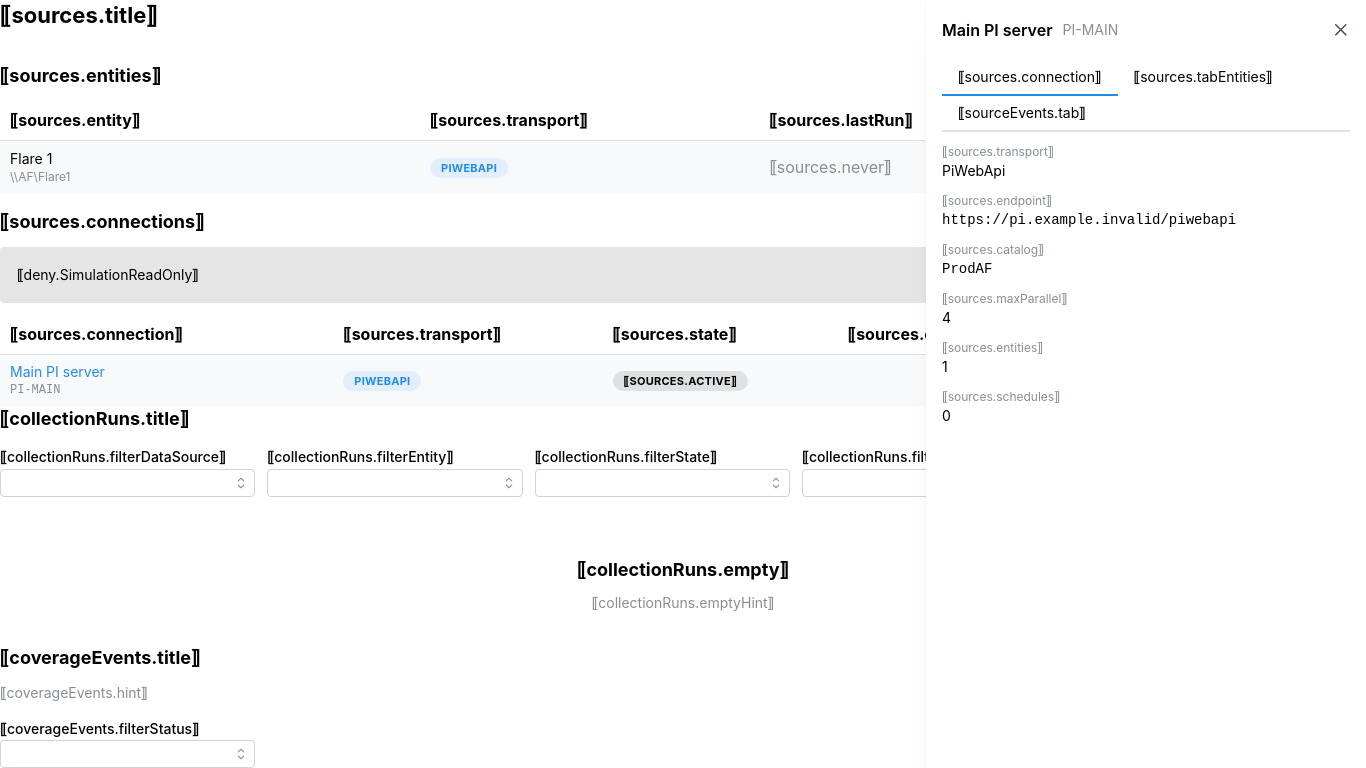
Test: SourcesPage під симуляцією (L9-18) › перегляд лишається, керування сховане, прив'язка вимкнена, є банер
Expected: the tab "⟦sourceEvents.tab⟧" is shown, [942,96,1102,132]
Click the tab "⟦sources.tabEntities⟧": (1203,78) [1118,60,1289,96]
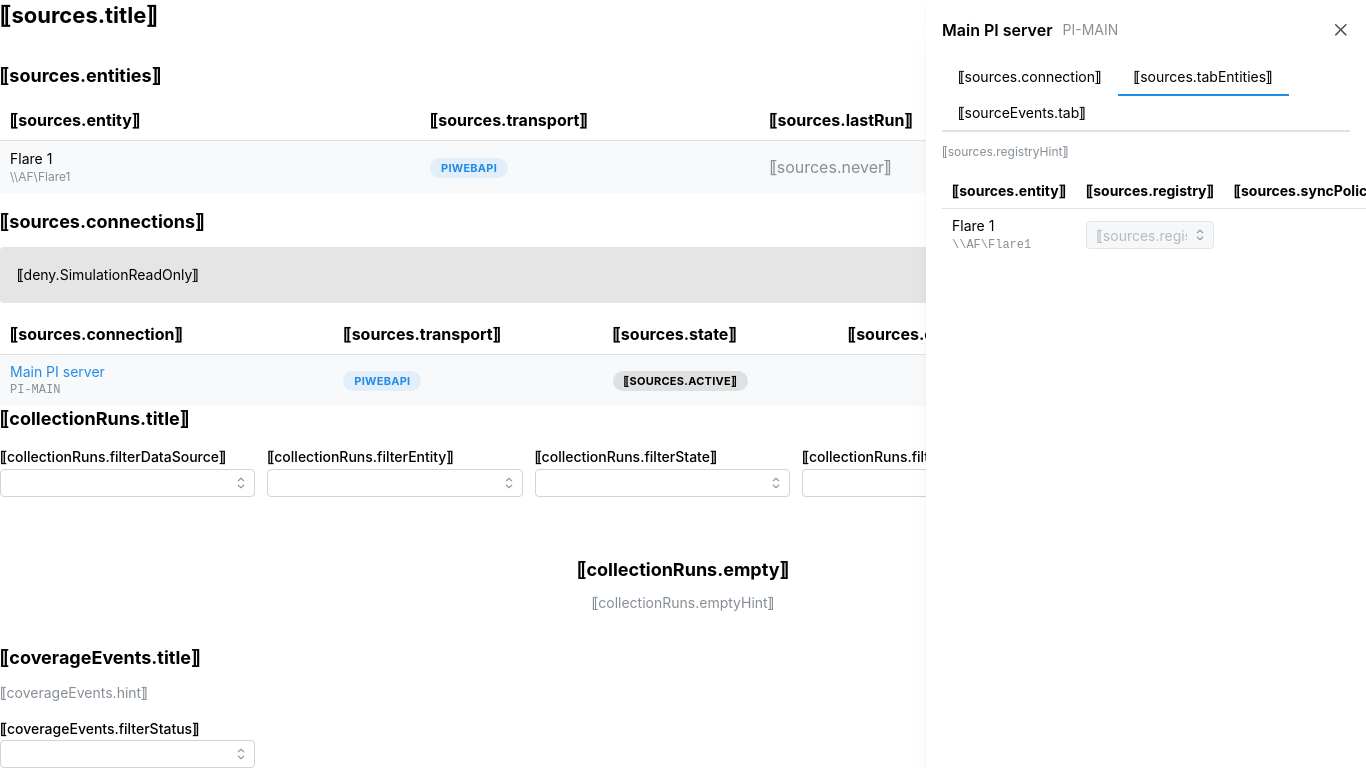
Expected: the message "⟦deny.SimulationReadOnly⟧" is shown, [0,247,1365,303]
Now the row "Flare 1 \\\\AF\\Flare1" is shown, box [942,209,1365,261]
Now the field named "⟦sources.registry⟧" is disabled, box [1086,221,1214,249]
